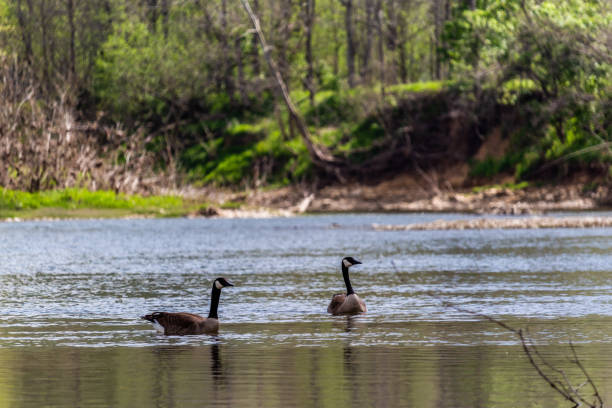goose: (136, 274, 237, 338), (325, 254, 369, 317)
